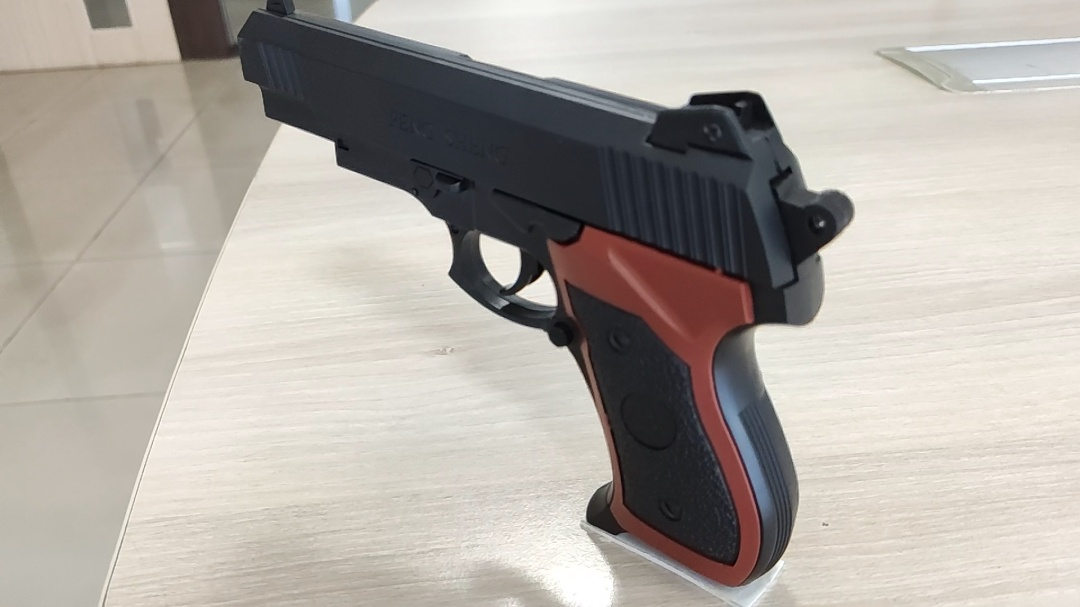gun: (236, 1, 854, 589)
